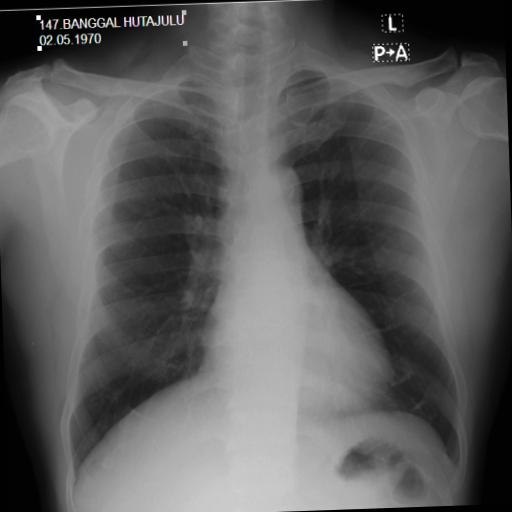kardiomegali: (45, 33, 470, 494)
